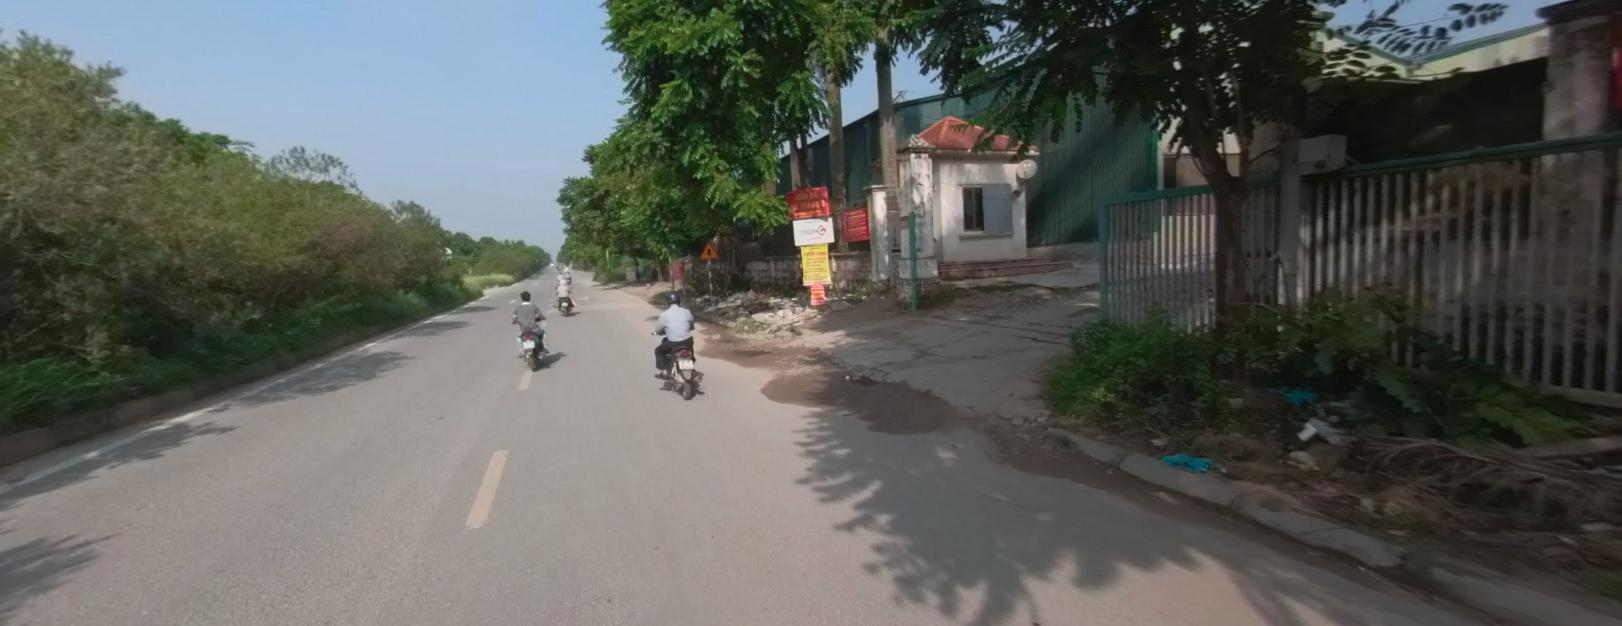Nguy hiem: (700, 240, 719, 257)
